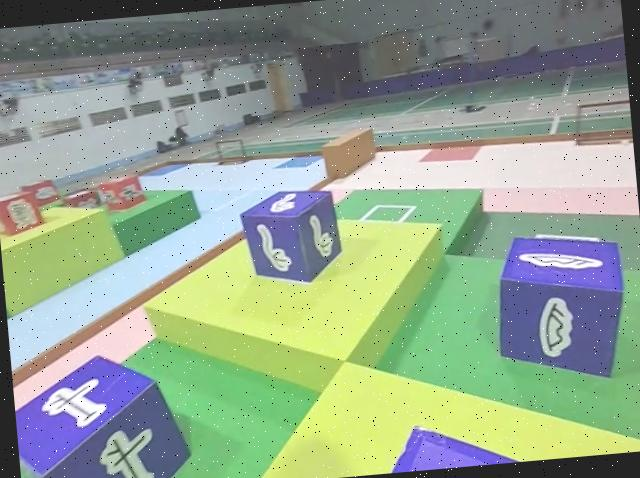R2 Real Blue: (490, 227, 634, 390), (9, 350, 190, 478), (234, 186, 342, 290)
